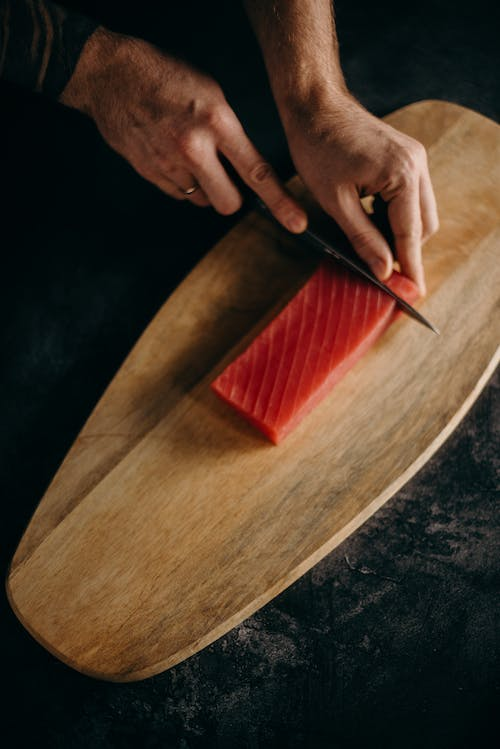knife: (307, 224, 443, 334)
